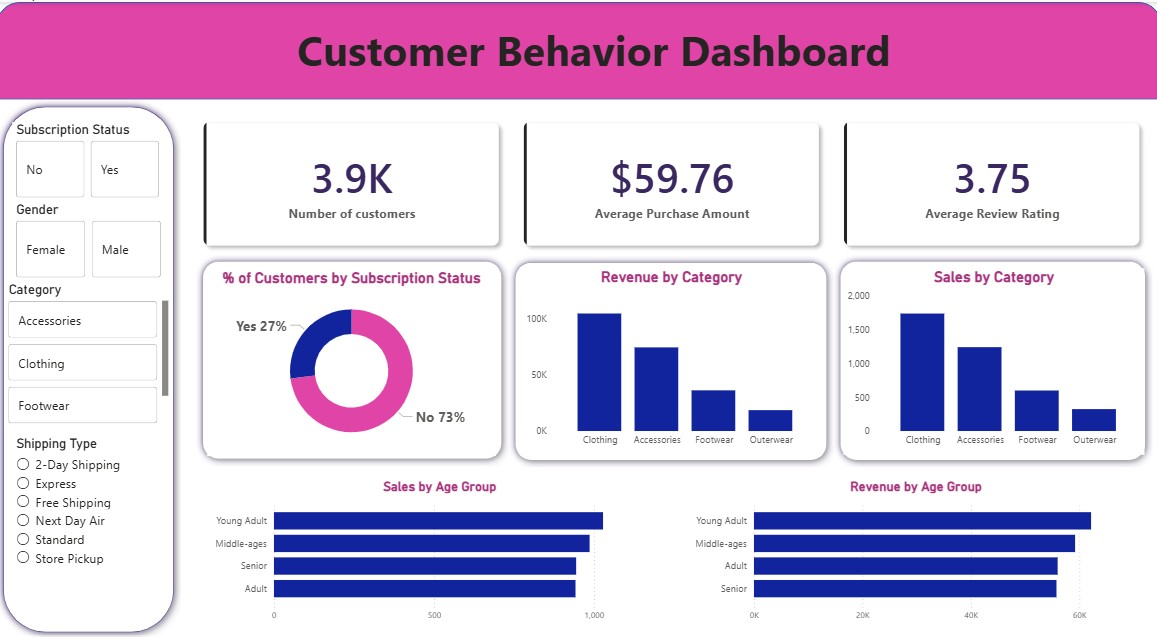

This screenshot's page, from the dashboard's own definition file:
{"tool":"powerbi","page":{"name":"Page 1","canvas":[1500,820],"ordinal":0},"visuals":[{"type":"cardVisual","fields":{"Data":["public customer.Number of customers","public customer.Average Purchase Amount","public customer.Average Review Rating"]},"box":[238,125.4,1262.3,217.1],"z":0},{"type":"shape","box":[0,0,1500.3,125.4],"z":1},{"type":"textbox","box":[107.7,19.3,1323.4,83.6],"z":2},{"type":"shape","box":[257.3,324.8,402,271.8],"z":3},{"type":"donutChart","title":"% of Customers by Subscription Status","fields":{"Category":["public customer.subscription_status"],"Y":["CountNonNull(public customer.customer_id)"]},"box":[271.8,344.1,371.5,239.6],"z":4},{"type":"shape","box":[1077.4,324.8,410.1,273.4],"z":5},{"type":"shape","box":[659.3,326.4,418.1,271.8],"z":6},{"type":"clusteredColumnChart","title":"Revenue by Category","fields":{"Y":["Sum(public customer.purchase_amount)"],"Category":["public customer.category"]},"box":[677,342.5,384.3,239.6],"z":7},{"type":"clusteredColumnChart","title":" Sales by Category","fields":{"Y":["CountNonNull(public customer.customer_id)"],"Category":["public customer.category"]},"box":[1090.3,342.5,387.5,239.6],"z":8},{"type":"shape","box":[0,125.4,238,694.7],"z":9},{"type":"advancedSlicerVisual","title":"Subscription Status","fields":{"Values":["public customer.subscription_status"]},"box":[20.9,154.4,194.6,102.9],"z":10},{"type":"advancedSlicerVisual","title":"Gender","fields":{"Values":["public customer.gender"]},"box":[20.9,257.3,197.8,102.9],"z":11},{"type":"advancedSlicerVisual","title":"Category","fields":{"Values":["public customer.category"]},"box":[11.3,360.2,215.5,186.5],"z":12},{"type":"listSlicer","title":"Shipping Type","fields":{"Values":["public customer.shipping_type"]},"box":[20.9,558,194.6,225.1],"z":13},{"type":"clusteredBarChart","title":"Revenue by Age Group","fields":{"Y":["Sum(public customer.purchase_amount)"],"Category":["public customer.age_group"]},"box":[889.3,612.7,588.6,193],"z":14},{"type":"clusteredBarChart","title":"Sales by Age Group","fields":{"Y":["CountNonNull(public customer.customer_id)"],"Category":["public customer.age_group"]},"box":[271.8,612.7,598.2,193],"z":15}]}

Visuals, with their boxes in screenshot pixels (x1, y1, x2, y2), scaled from the page's 1500x820 canvas onto the 1157x637 screenshot:
cardVisual - public customer.Number of customers x public customer.Average Purchase Amount: box(184, 97, 1156, 266)
shape: box(0, 0, 1156, 97)
textbox: box(83, 15, 1104, 80)
shape: box(198, 252, 509, 463)
"% of Customers by Subscription Status" donutChart: box(210, 267, 496, 453)
shape: box(831, 252, 1147, 465)
shape: box(509, 254, 831, 465)
"Revenue by Category" clusteredColumnChart: box(522, 266, 819, 452)
" Sales by Category" clusteredColumnChart: box(841, 266, 1140, 452)
shape: box(0, 97, 184, 636)
"Subscription Status" advancedSlicerVisual: box(16, 120, 166, 200)
"Gender" advancedSlicerVisual: box(16, 200, 169, 280)
"Category" advancedSlicerVisual: box(9, 280, 175, 425)
"Shipping Type" listSlicer: box(16, 433, 166, 608)
"Revenue by Age Group" clusteredBarChart: box(686, 476, 1140, 626)
"Sales by Age Group" clusteredBarChart: box(210, 476, 671, 626)
